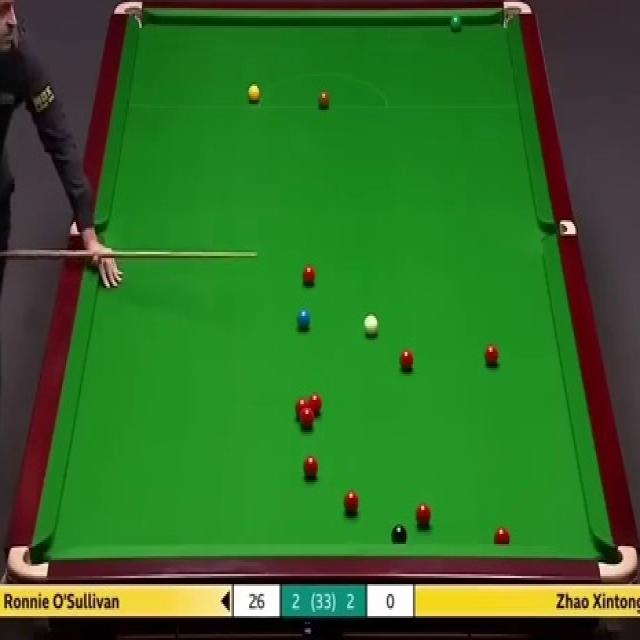black-ball: (391, 524, 408, 544)
blue-ball: (297, 307, 311, 333)
brown-ball: (317, 88, 331, 112)
green-ball: (450, 13, 462, 33)
red-ball: (302, 454, 319, 482), (414, 503, 432, 528), (342, 491, 360, 515), (399, 347, 414, 373), (302, 264, 317, 288), (485, 344, 499, 368), (493, 526, 511, 544), (300, 406, 314, 428), (308, 394, 322, 413), (296, 398, 308, 414)
white-ball: (363, 313, 378, 338)
yellow-ball: (247, 81, 260, 105)
